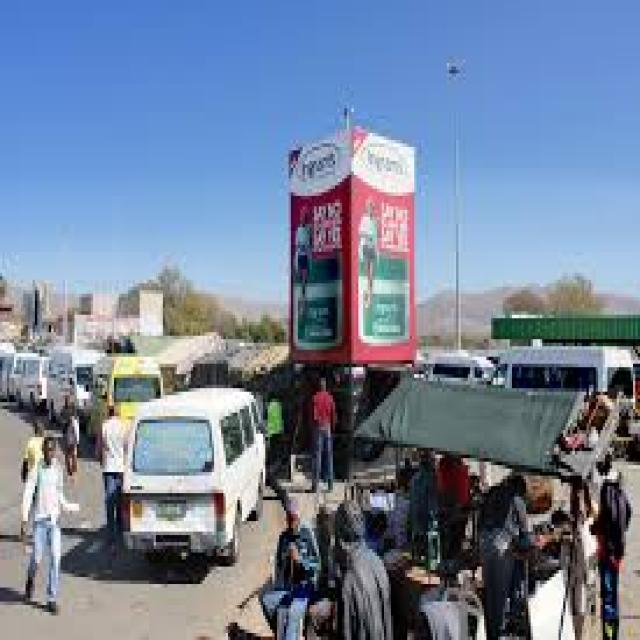MiniBus taxi: (112, 385, 277, 570)
Pedestrians: (19, 434, 72, 608)
